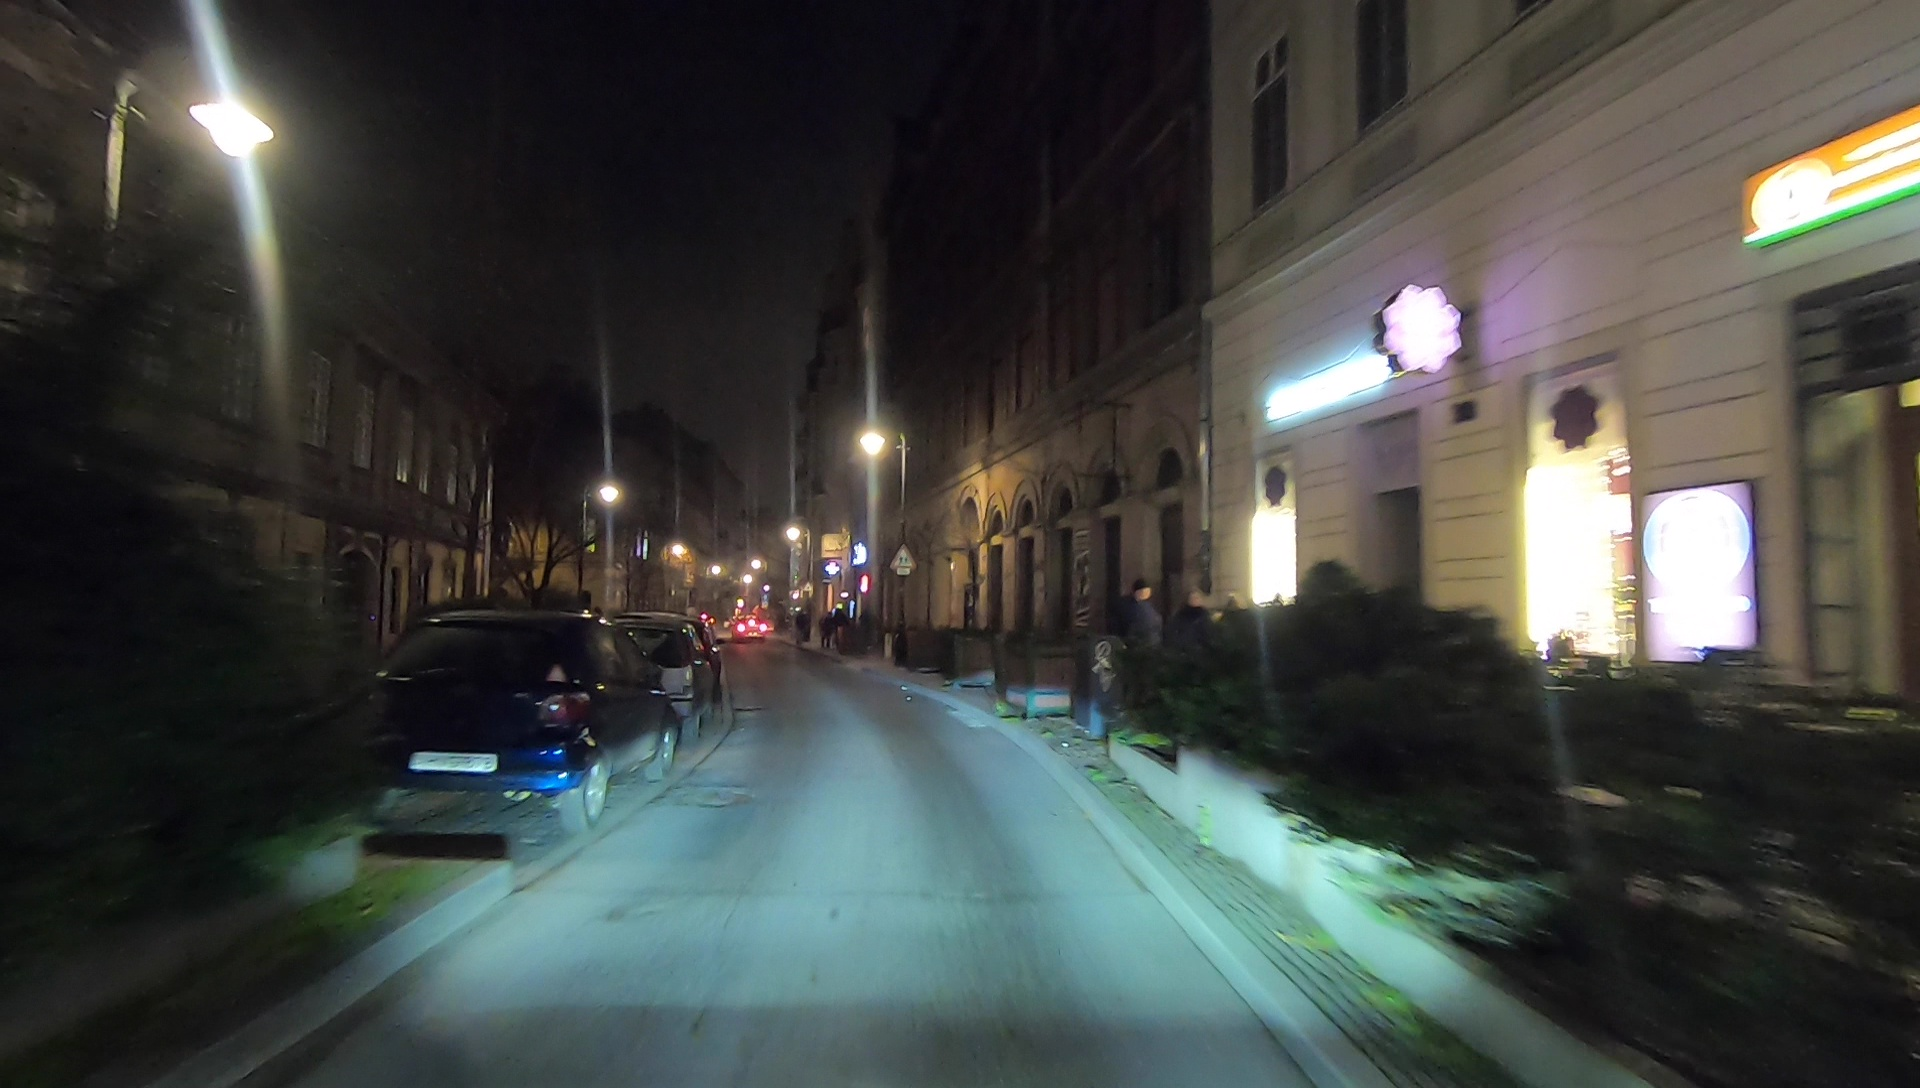person: (1121, 573, 1160, 706), (1175, 582, 1210, 710)
